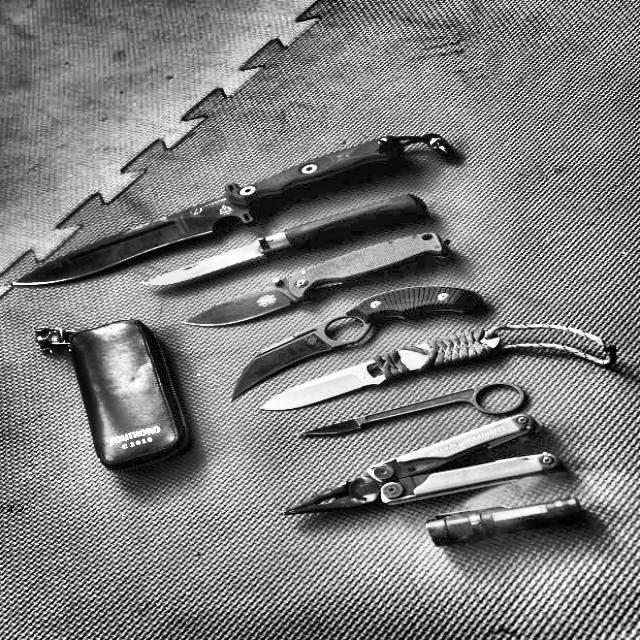knife: (9, 127, 469, 285), (253, 316, 626, 416), (269, 410, 572, 528), (147, 181, 448, 298), (218, 281, 516, 399), (192, 226, 469, 324), (325, 448, 566, 514)
